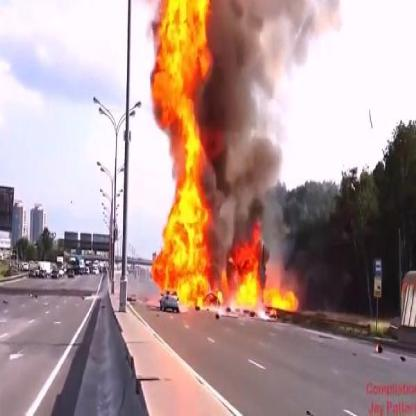fire: (146, 0, 223, 310), (224, 215, 299, 322)
